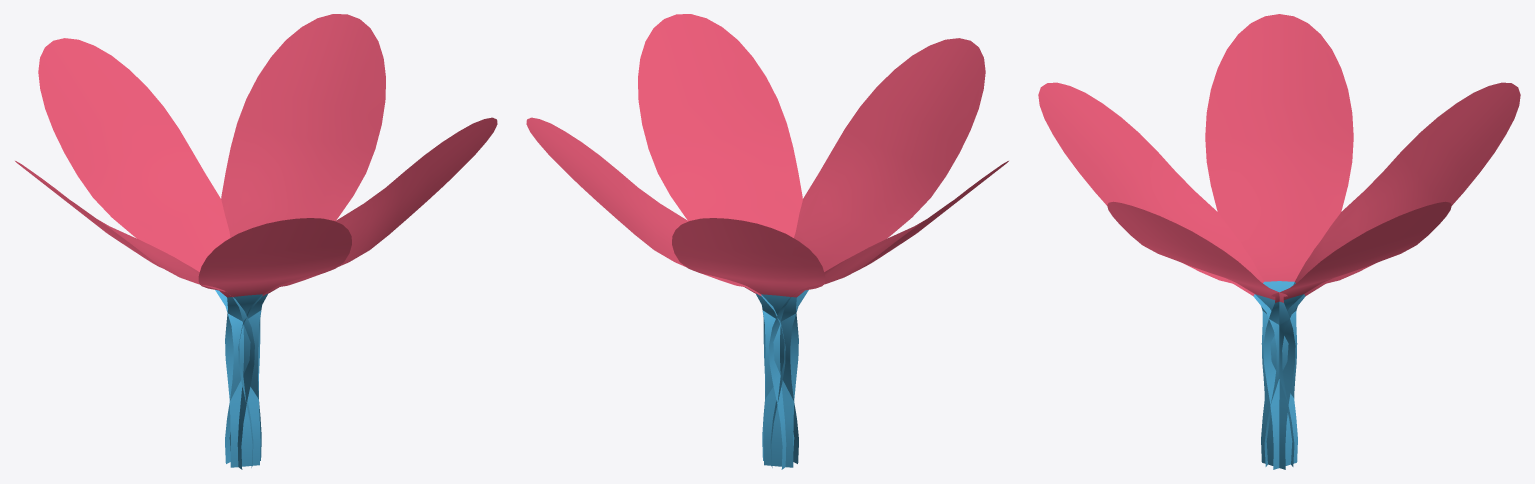
Rendered from flower.fbx.
3 views of the same model, side by side, from view 1: azimuth 30°, elevation 25°; view 2: azimuth 150°, elevation 25°; view 3: azimuth 270°, elevation 25° (orthographic).
Parts seen in each view (by area): view 1: Circle; view 2: Circle; view 3: Circle.
Part boxes in pixels (<box>): Circle: <box>15,14,497,469</box>; Circle: <box>526,14,1008,469</box>; Circle: <box>1038,14,1520,469</box>.
Size of the model in its own units: 291 by 237 by 303.
